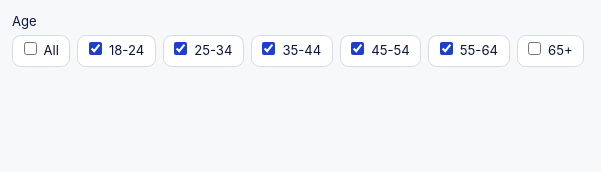
Test: AgeRangeChips › ticks All once the last band is ticked
Check: the checkbox labelled "All" is not checked, box [24,42,36,55]
Click the checkbox labelled "65+": (534, 49) [528,42,541,55]
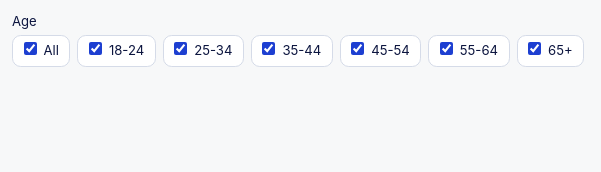
Check: the checkbox labelled "All" is checked, box [24,42,36,55]
